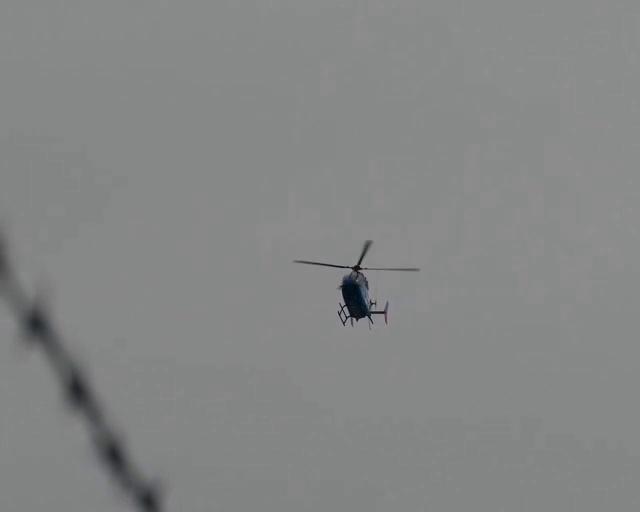HELICOPTER: (293, 239, 421, 329)
